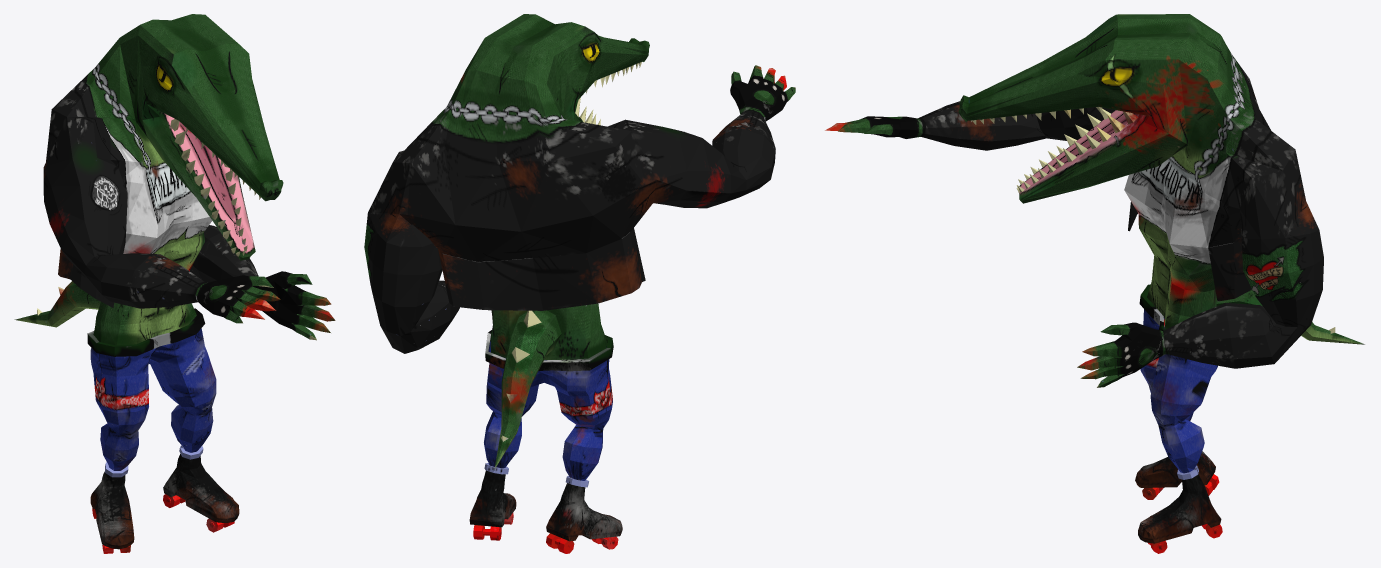
The model's file is cocodrilaBonesSelect_000014.obj.
The picture shows the model from 3 angles, left to right: view 1: azimuth 30°, elevation 25°; view 2: azimuth 150°, elevation 25°; view 3: azimuth 270°, elevation 25°; orthographic projection.
Visible parts, largest first — view 1: Crocodile.002_Cylinder.002; view 2: Crocodile.002_Cylinder.002; view 3: Crocodile.002_Cylinder.002.
Part boxes in pixels (bbox=[...]): Crocodile.002_Cylinder.002: bbox=[14, 14, 335, 553]; Crocodile.002_Cylinder.002: bbox=[364, 14, 795, 553]; Crocodile.002_Cylinder.002: bbox=[825, 14, 1365, 553].
Size of the model in its own units: 3.73 by 6.65 by 6.46.
